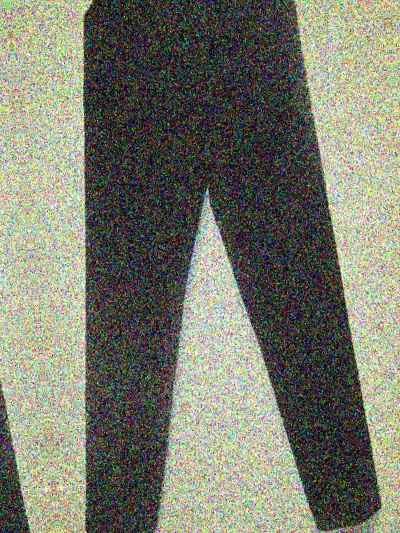Pants: (40, 0, 395, 533), (0, 3, 26, 533), (94, 531, 400, 533)
